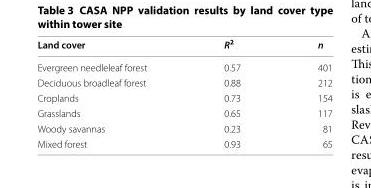table: (36, 36, 331, 149)
table column: (36, 36, 184, 149), (184, 36, 278, 149), (278, 36, 331, 149)
table column header: (36, 36, 331, 55)
table row: (36, 36, 331, 55), (36, 55, 331, 74), (36, 89, 331, 105), (36, 74, 331, 89), (36, 105, 331, 120), (36, 120, 331, 135), (36, 135, 331, 149)
